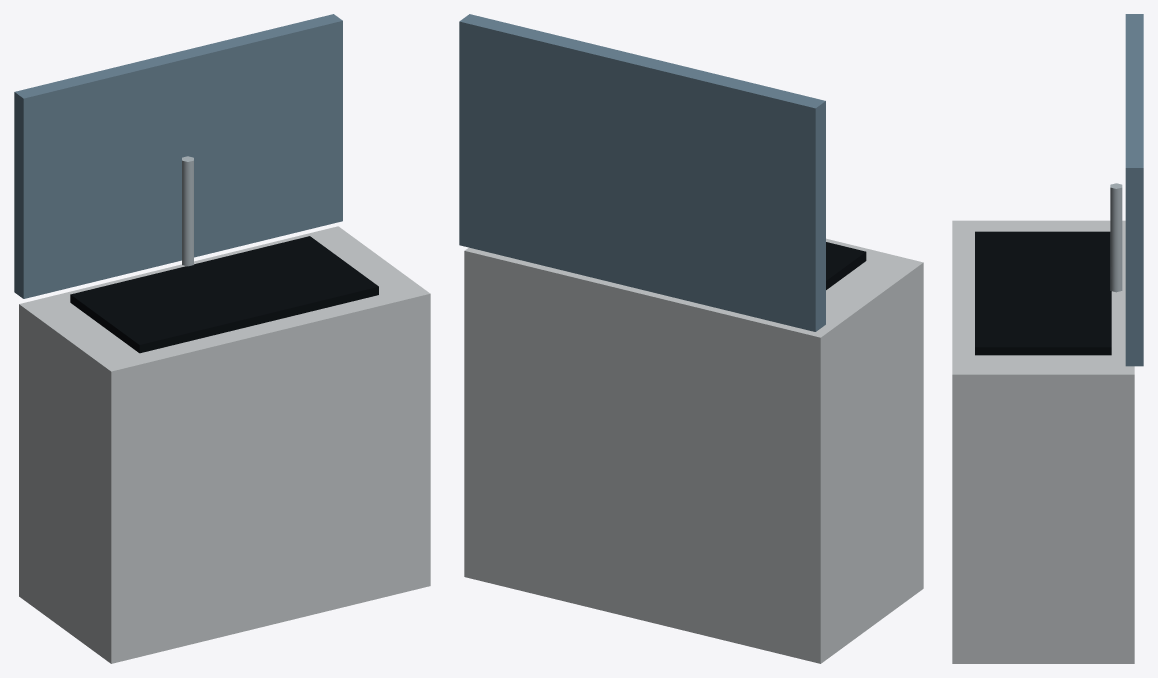
Rendered from med_sink.glb.
3 renders of one model, left to right at view 1: azimuth 30°, elevation 25°; view 2: azimuth 150°, elevation 25°; view 3: azimuth 270°, elevation 25°, orthographic. The views are drawn at different scales.
Parts seen in each view (by area): view 1: sw5e_int_med_sink; view 2: sw5e_int_med_sink; view 3: sw5e_int_med_sink.
Part boxes in pixels (x1,y1,x2,y2): sw5e_int_med_sink: (14, 14, 430, 663); sw5e_int_med_sink: (459, 14, 923, 663); sw5e_int_med_sink: (952, 14, 1143, 663).
Size of the model in its own units: 0.8 by 1.2 by 0.42.
